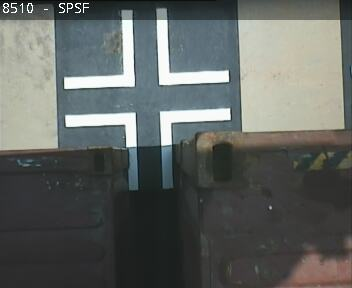groundmarker_1: (62, 9, 230, 91), (63, 107, 230, 188)
